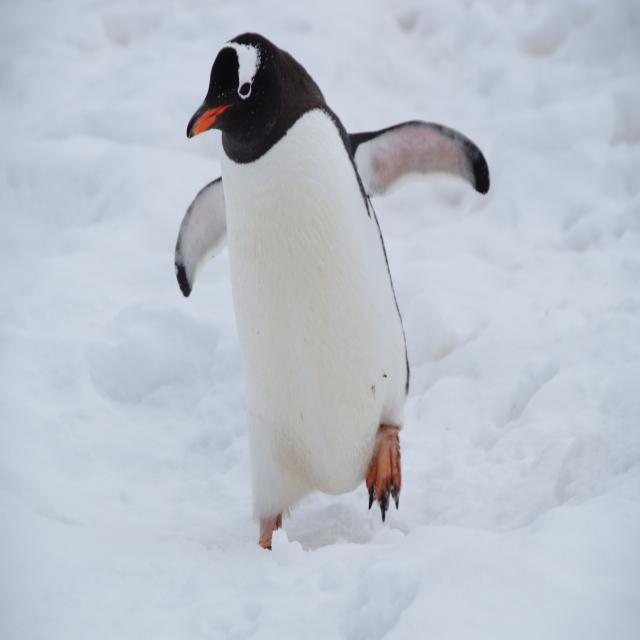Penguins: (178, 20, 418, 566)
